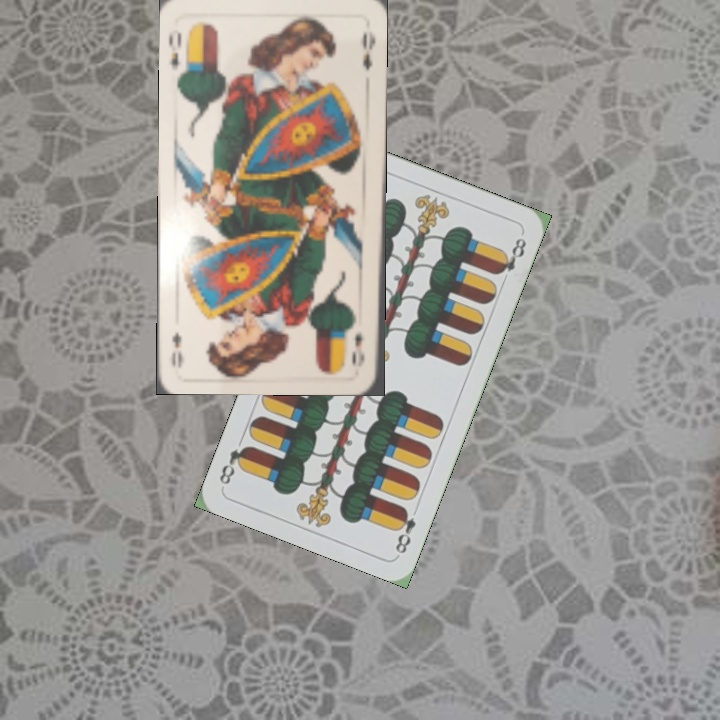E8: (391, 504, 419, 557)
EO: (166, 29, 193, 78), (349, 328, 367, 369)
